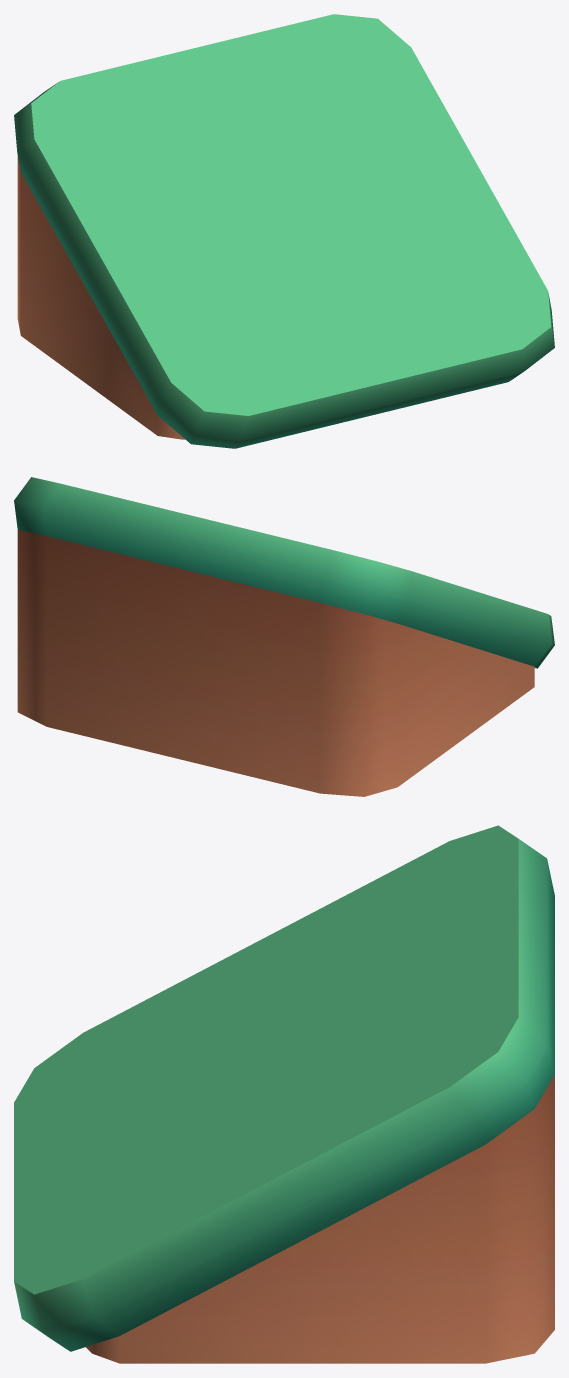
File: kenney-platformer-block-grass-large-slope-steep.glb
3 views of the same model, one above another, from view 1: azimuth 30°, elevation 25°; view 2: azimuth 150°, elevation 25°; view 3: azimuth 270°, elevation 25° (orthographic). The views are drawn at different scales.
Visible parts, largest first — view 1: block-grass-large-slope-steep; view 2: block-grass-large-slope-steep; view 3: block-grass-large-slope-steep.
Part boxes in pixels (bbox=[...]): block-grass-large-slope-steep: bbox=[14, 14, 554, 448]; block-grass-large-slope-steep: bbox=[14, 477, 554, 796]; block-grass-large-slope-steep: bbox=[14, 825, 554, 1363].
Size of the model in its own units: 2.08 by 1.22 by 1.86.
1 material, 1 textured.
